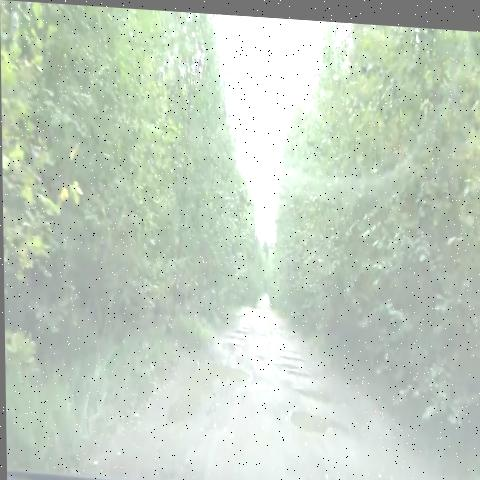pothole: (153, 351, 253, 444), (278, 397, 350, 444), (288, 373, 339, 406), (270, 351, 302, 375), (261, 303, 284, 334), (225, 311, 250, 339), (280, 364, 314, 384), (215, 330, 242, 352), (274, 344, 306, 362), (249, 344, 272, 366), (250, 357, 274, 378), (246, 374, 270, 392), (268, 331, 291, 345)
